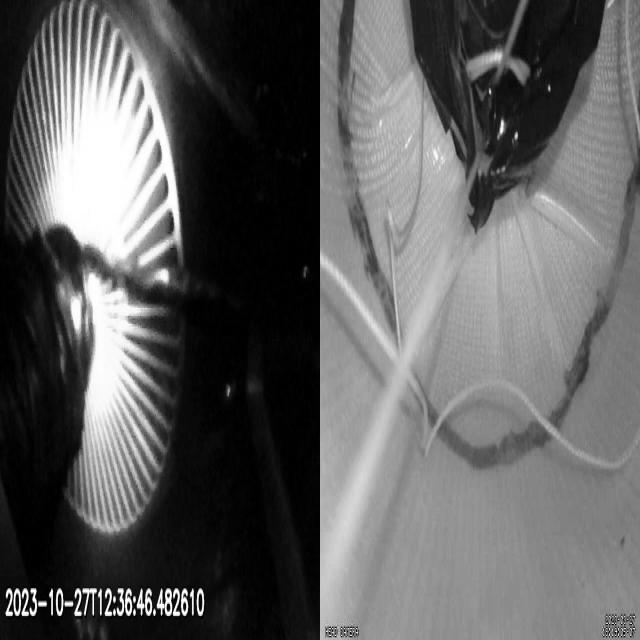red-circle: (336, 0, 640, 469)
